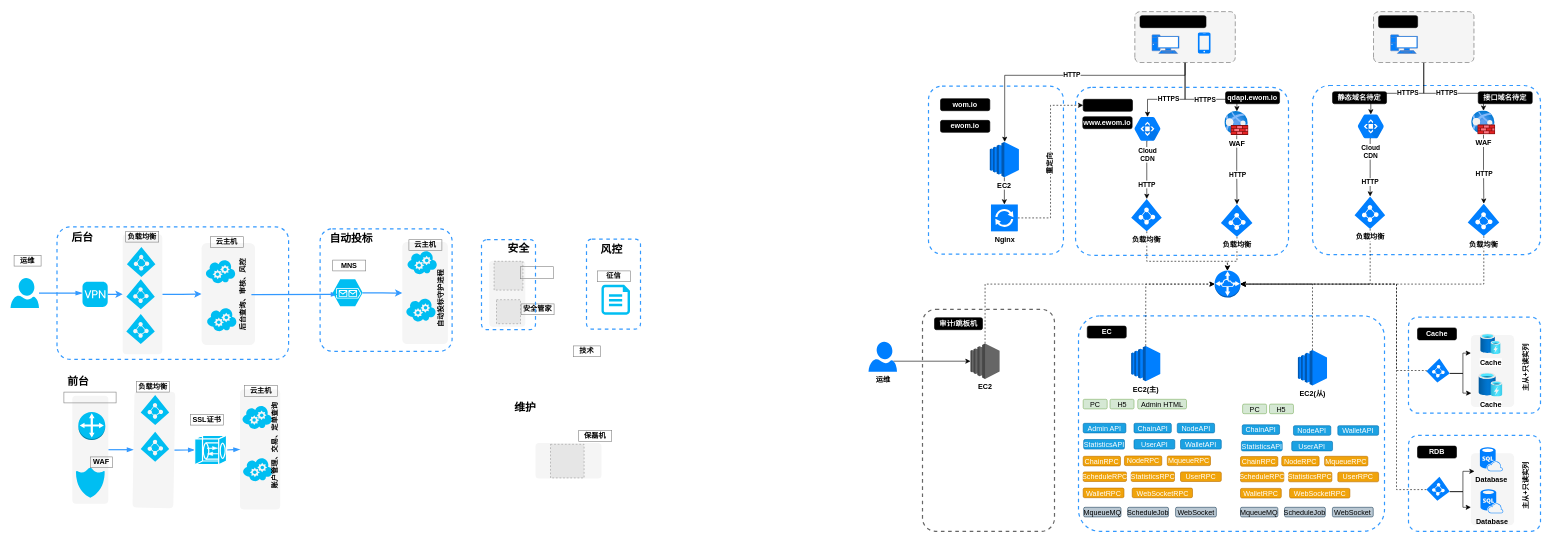
The diagram is 1551 pixels wide and 542 high, and some of its shapes have lost their labels. Grey dashed boxes stand in for pictures. The centre of each missing label's shape, as x and y in pixels:
"DDOS高防IP" goes at (89,397).
"PC 运营" goes at (1398,21).
"PC\H5\APP 用户" goes at (1172,21).
"VPC网络" goes at (1227,284).
"www.wom.io" goes at (1107,105).
"先知计划" goes at (537,272).
